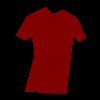abbigliamento_uomo: (15, 6, 86, 94)
